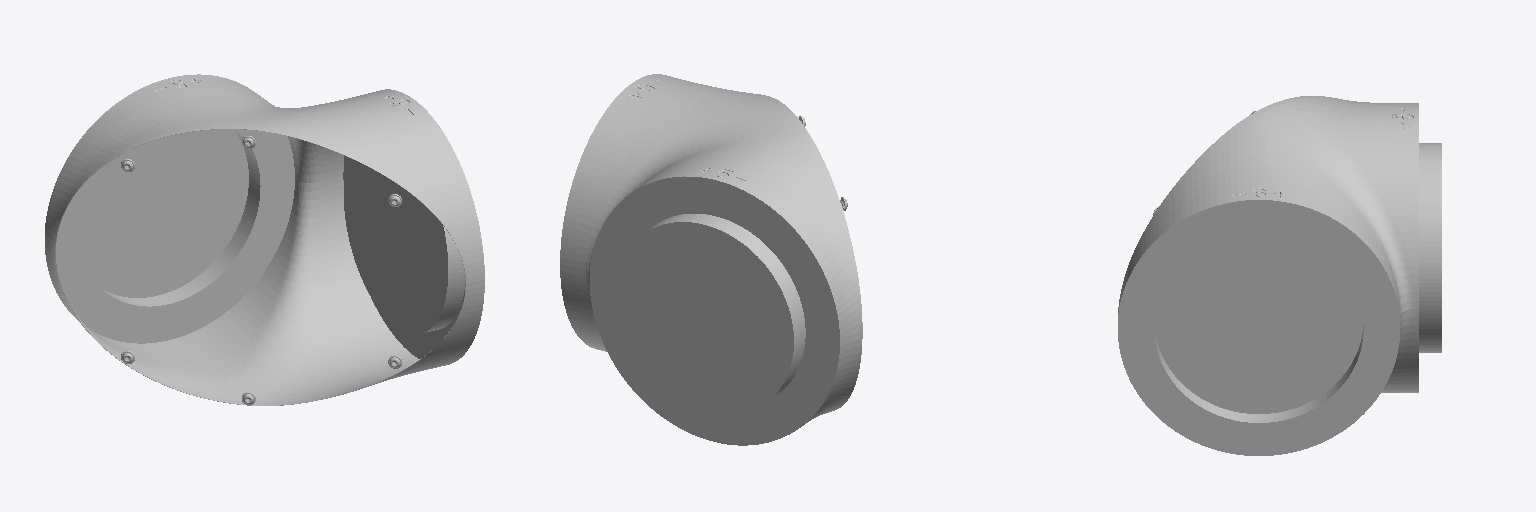
The model's file is geo-bdb8b6c5-2bc9-4724-8b72-eadffcd50214.obj.
3 renders of one model, left to right at view 1: azimuth 30°, elevation 25°; view 2: azimuth 150°, elevation 25°; view 3: azimuth 270°, elevation 25°, orthographic.
Parts seen in each view (by area): view 1: 0, 1; view 2: 0; view 3: 0.
Part boxes in pixels (left/top/right/bottom): 0: left=45, top=74, right=484, bottom=405; 1: left=121, top=136, right=401, bottom=404; 0: left=560, top=74, right=862, bottom=445; 0: left=1118, top=96, right=1441, bottom=455.
Size of the model in its own units: 163 by 145 by 155.